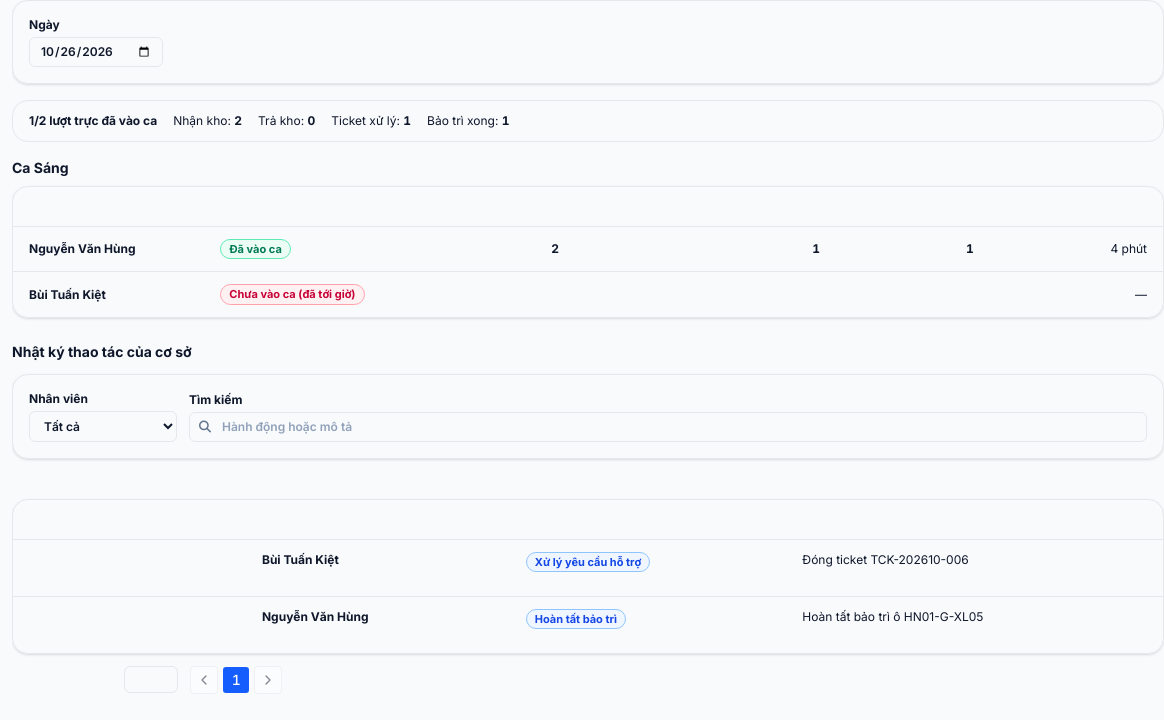
it: StaffActivityPanel: hoạt động nhân viên và nhật ký cơ sở › nhật ký: nhãn tiếng Việt, vai trò tiếng Việt; bấm tên nhân viên thì lọc nhật ký của người đó
Expected: the text "Hoàn tất bảo trì ô HN01-G-XL05" is shown, [786, 596, 1163, 653]
Expected: the text "Hoàn tất bảo trì" is shown, [526, 609, 626, 629]
Click the button with aria-label "Xem nhật ký của Bùi Tuấn Kiệt": (67, 295) [29, 287, 106, 303]
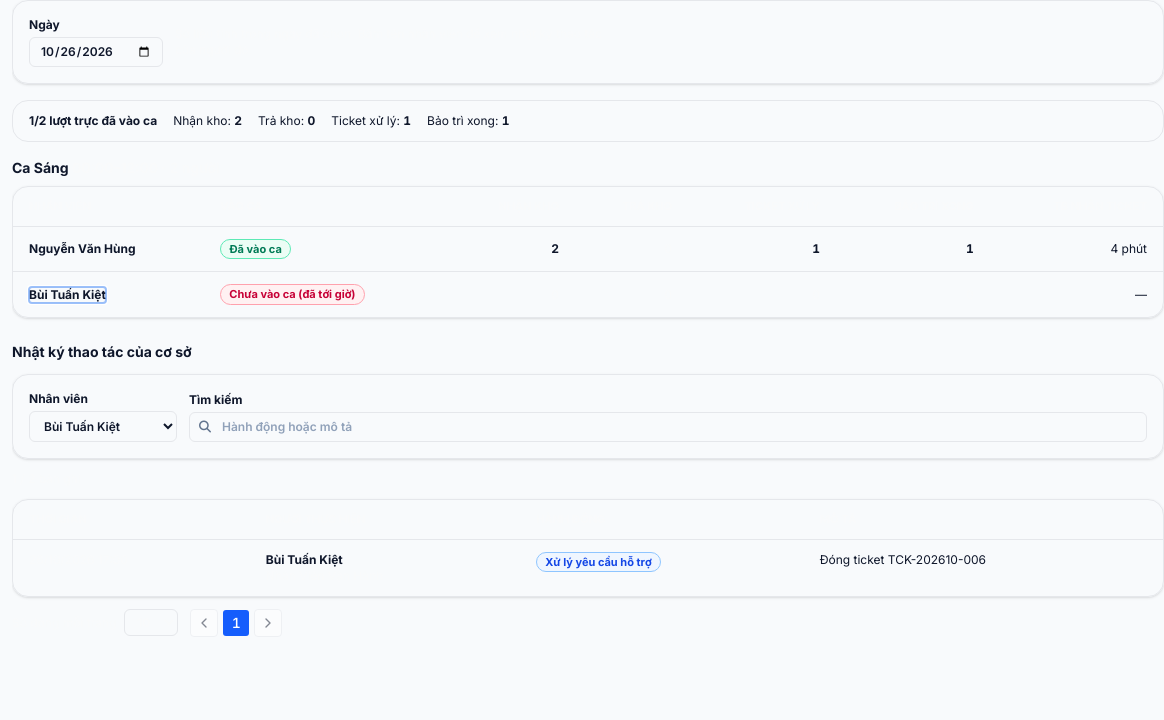
Expected: the text "Đóng ticket TCK-202610-006" is shown, [804, 540, 1163, 596]
Expected: the dropdown labelled "Nhân viên" shows "Bùi Tuấn Kiệt", [29, 411, 177, 442]
Expected: the text "Hoàn tất bảo trì ô HN01-G-XL05" is gone
